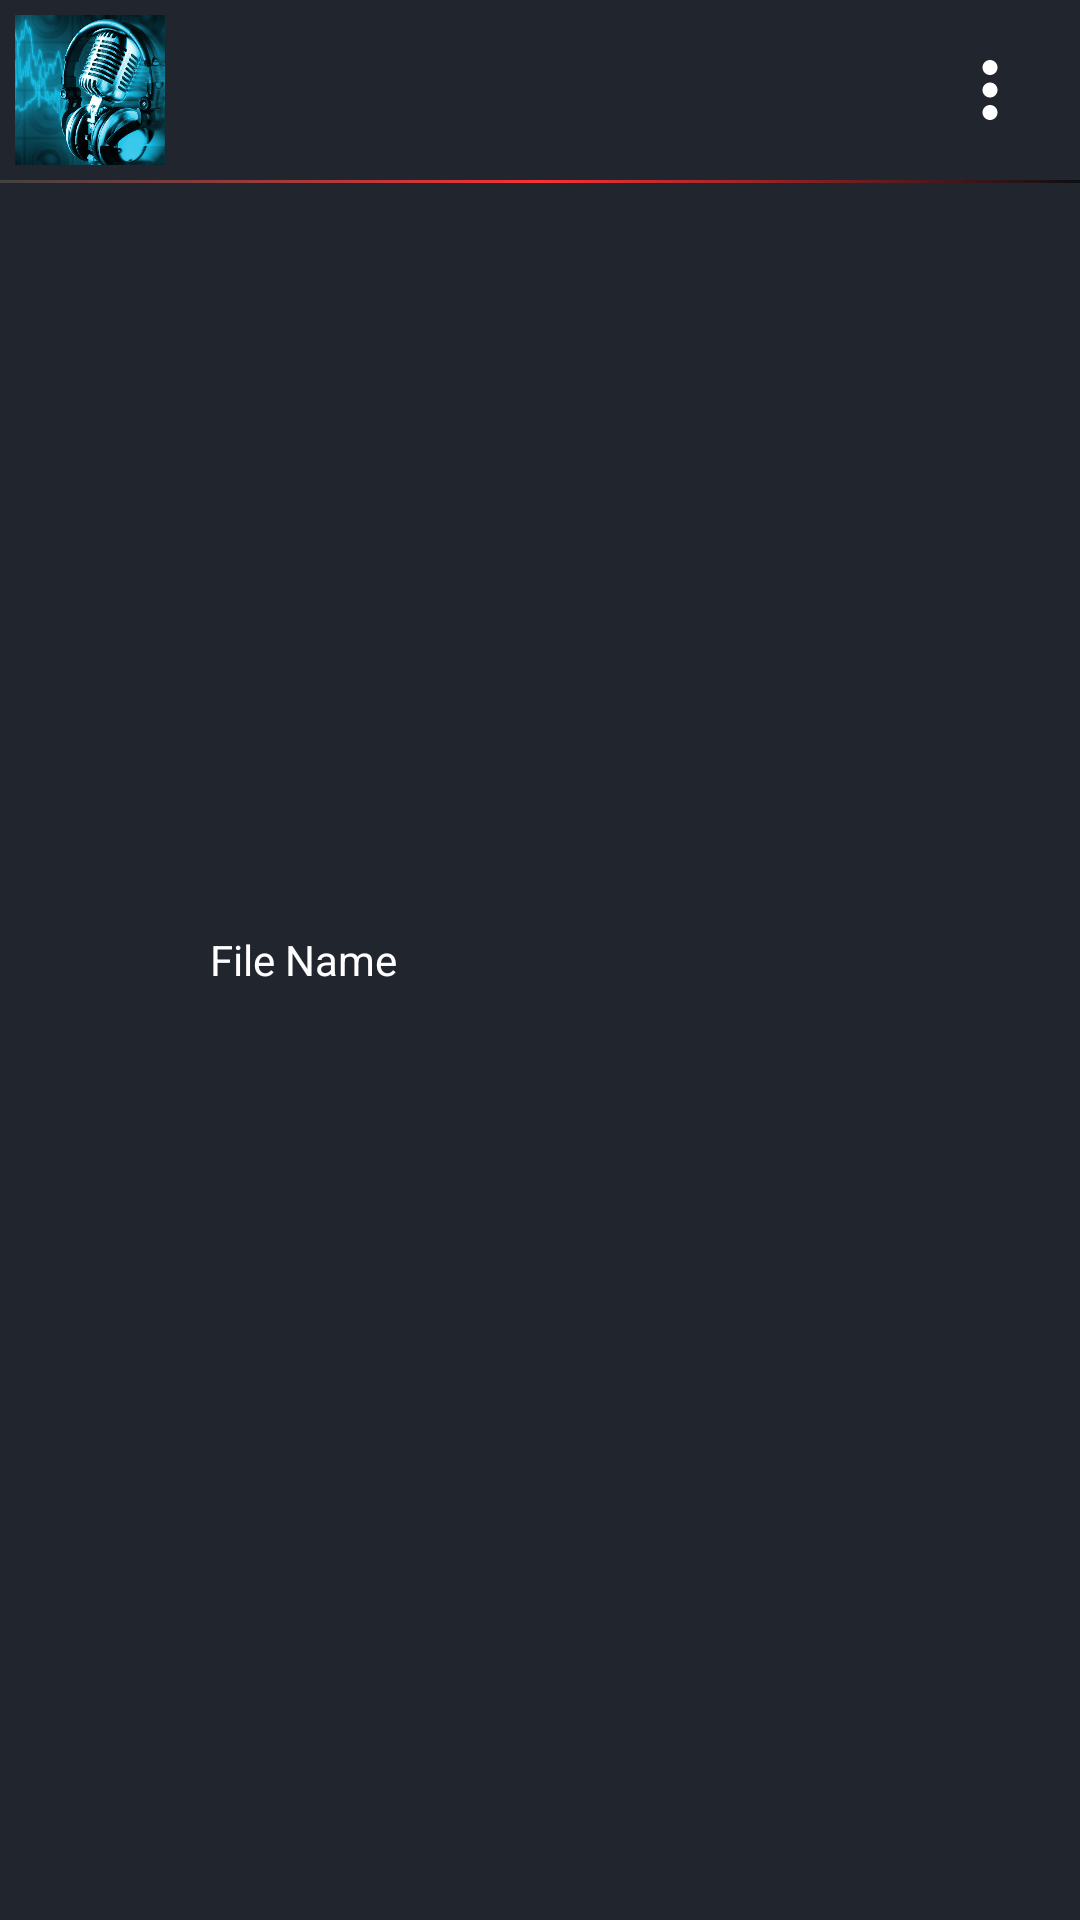

Icon click points for this 1080w x 1920h phone screenshot, format (x=x, y=y):
more: (x=990, y=90)
